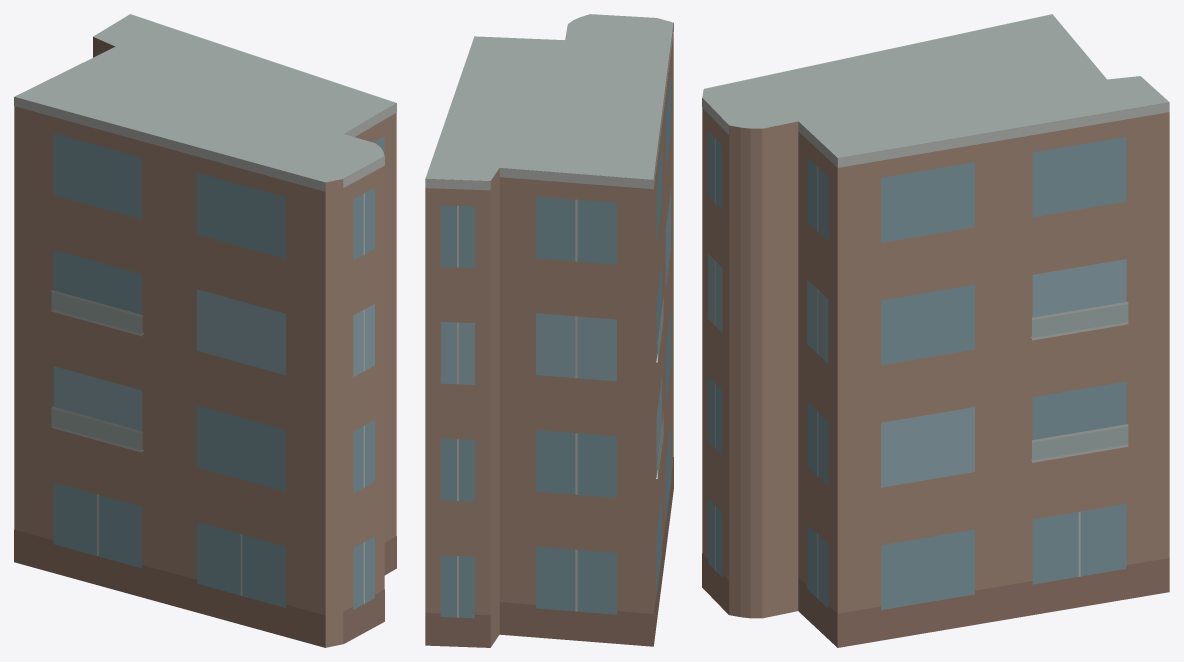
File: survey-upis-32460521.glb
3 views of the same model, side by side, from view 1: azimuth 30°, elevation 25°; view 2: azimuth 150°, elevation 25°; view 3: azimuth 270°, elevation 25° (orthographic). The views are drawn at different scales.
Visible parts, largest first — view 1: survey-upis-32460521.tmp; view 2: survey-upis-32460521.tmp; view 3: survey-upis-32460521.tmp.
Part boxes in pixels (x1=…): survey-upis-32460521.tmp: x1=14, y1=14, x2=396, y2=647; survey-upis-32460521.tmp: x1=425, y1=14, x2=673, y2=647; survey-upis-32460521.tmp: x1=702, y1=14, x2=1169, y2=647.
Bounding box in the file's own units: 7.71 × 12.2 × 10.57.
